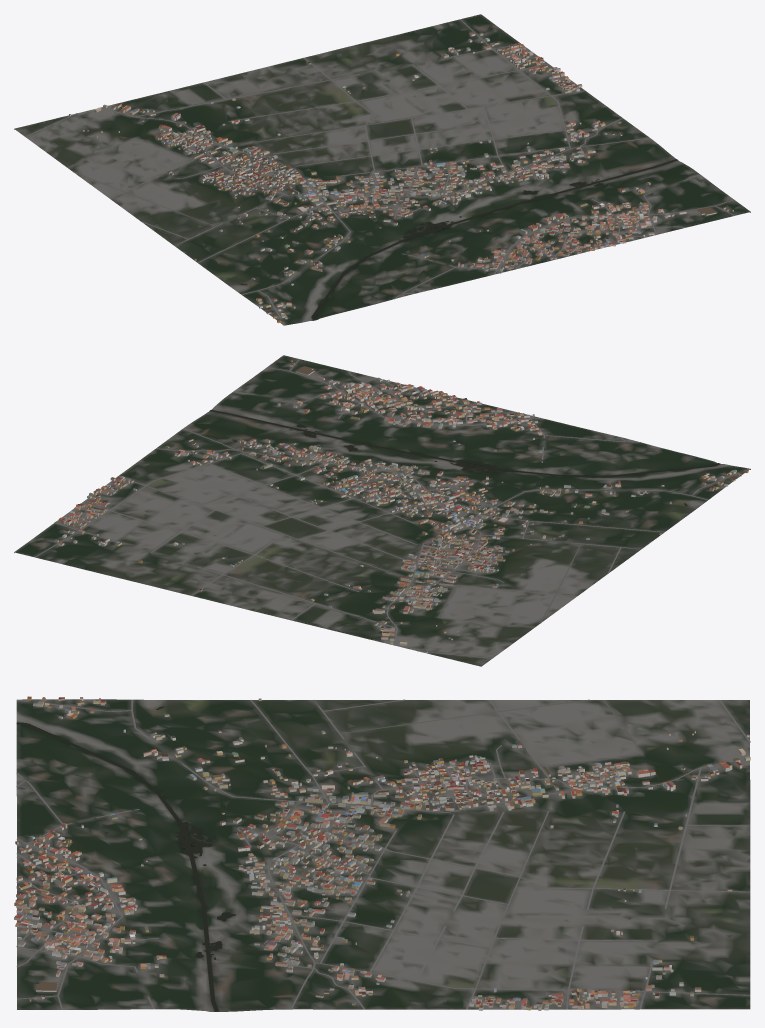
The picture shows the model from 3 angles, top to bottom: view 1: azimuth 30°, elevation 25°; view 2: azimuth 150°, elevation 25°; view 3: azimuth 270°, elevation 25°; orthographic projection. The views are drawn at different scales.
Visible parts, largest first — view 1: ground, buildings, roads, water; view 2: ground, buildings, roads, water; view 3: ground, buildings, roads, water.
Boxes of the visible parts, bbox=[...] form: ground: bbox=[14, 14, 750, 325]; buildings: bbox=[69, 32, 733, 323]; roads: bbox=[25, 19, 734, 325]; water: bbox=[240, 159, 677, 320]; ground: bbox=[14, 355, 750, 666]; buildings: bbox=[54, 360, 748, 652]; roads: bbox=[34, 359, 749, 658]; water: bbox=[210, 410, 720, 505]; ground: bbox=[16, 699, 750, 1011]; buildings: bbox=[14, 696, 750, 1010]; roads: bbox=[16, 699, 750, 1009]; water: bbox=[16, 706, 235, 1011].
Size of the model in its own units: 1412 by 19.67 by 1409.
